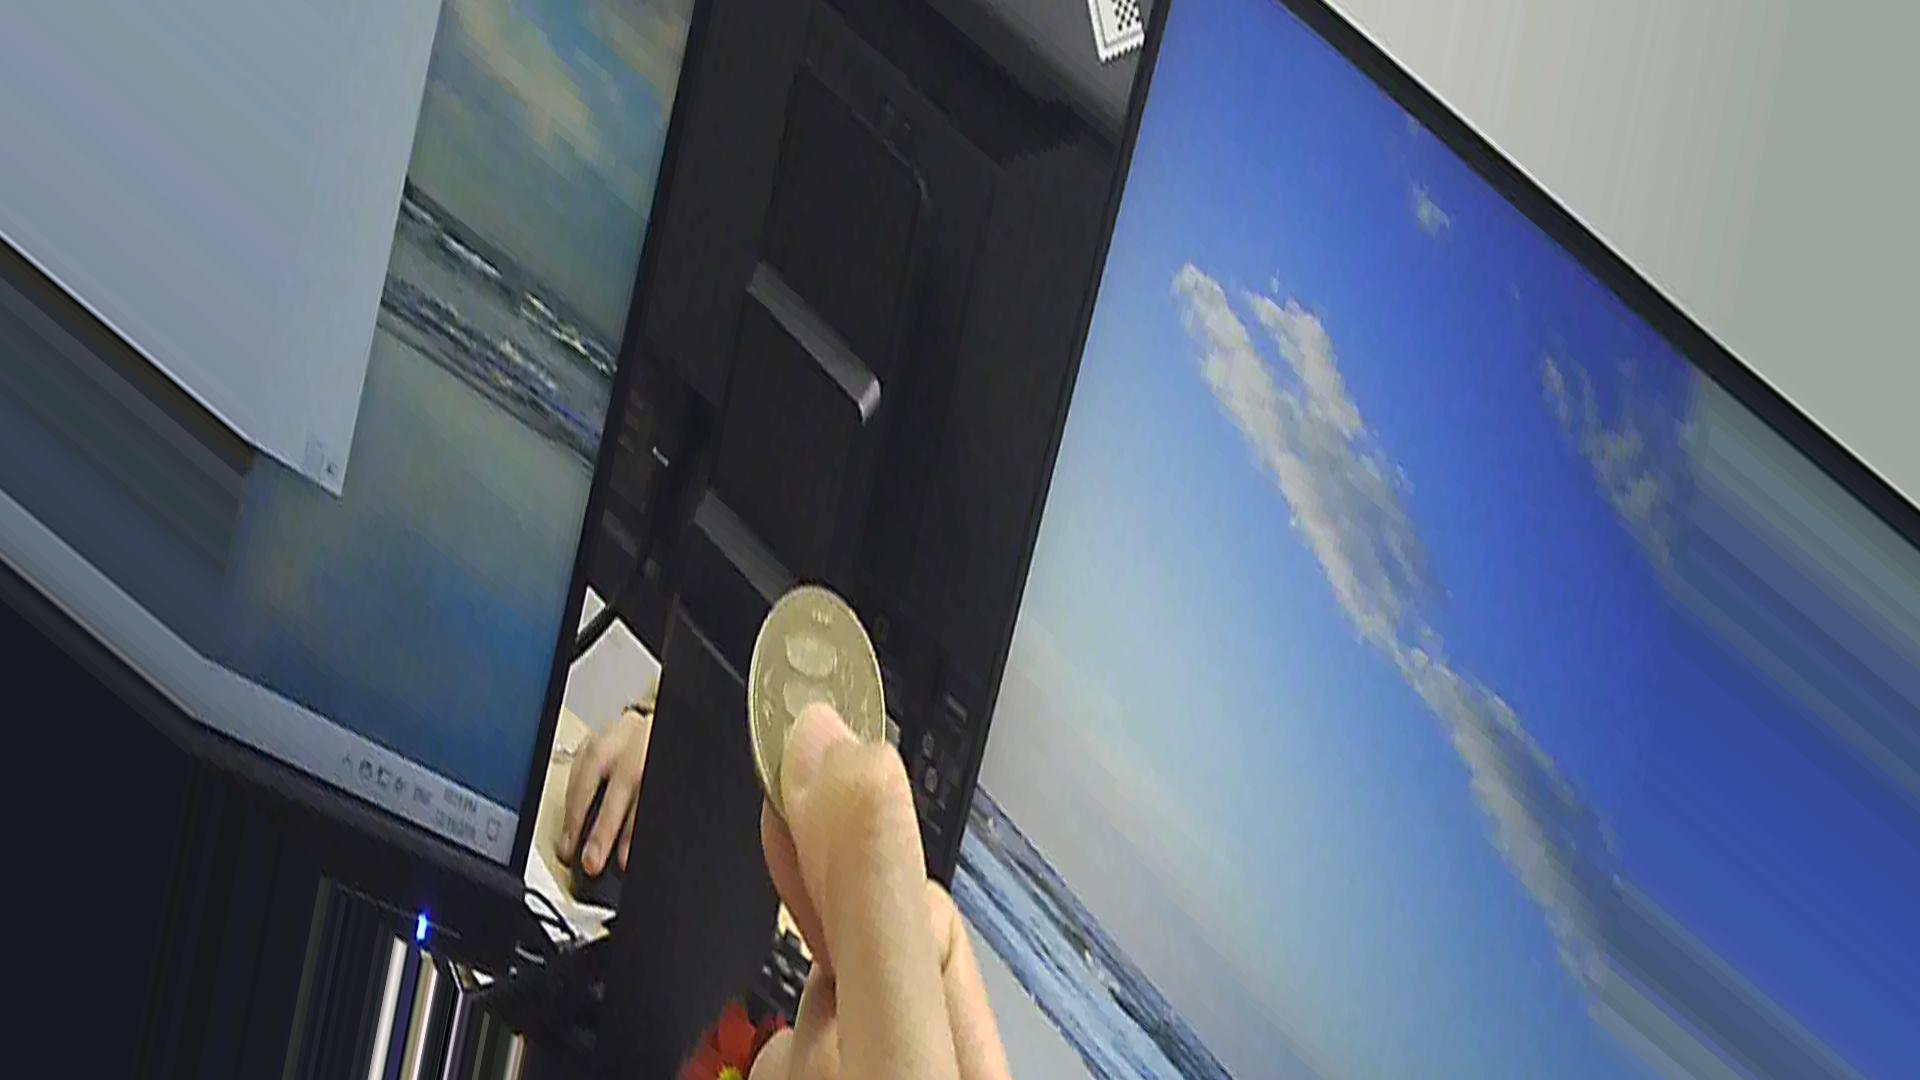500 Yen: (732, 582, 897, 851)
